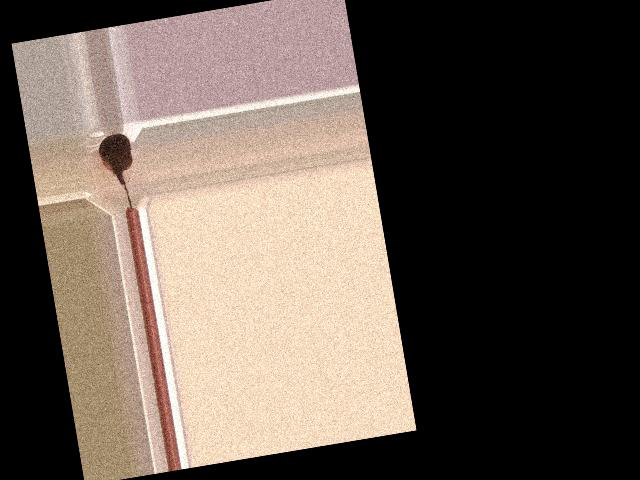beet: (96, 132, 140, 213)
